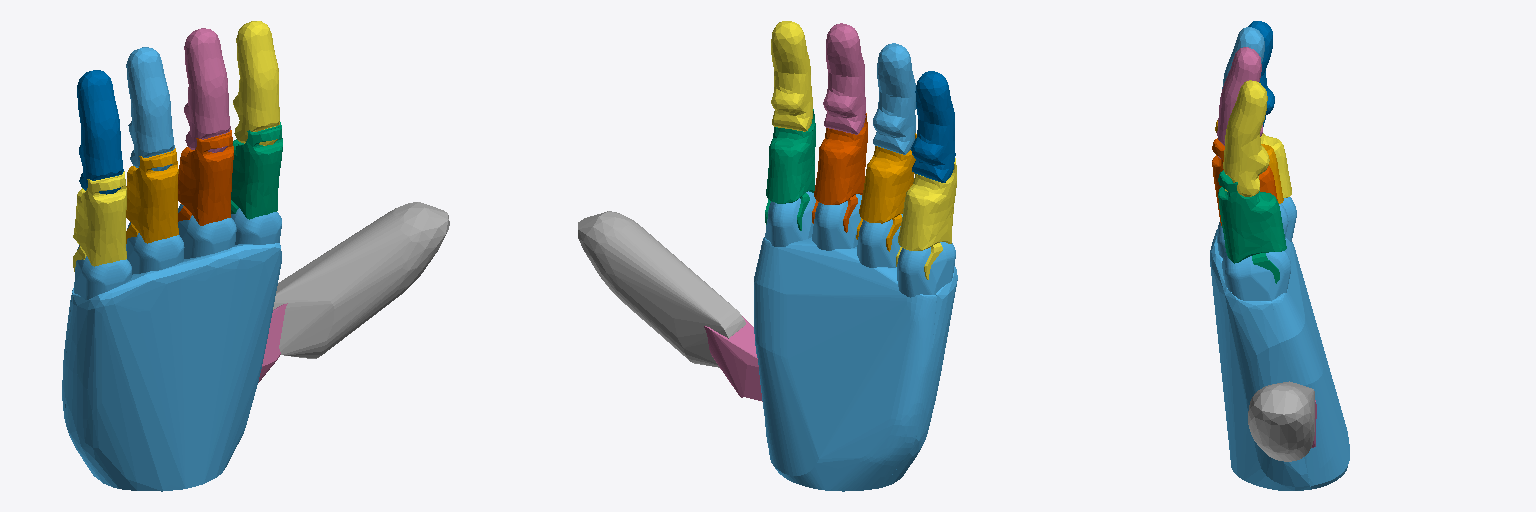
robot.urdf — ability_hand:
<!--
	NOTES:
	Units:
		Distance: m
		Angles: rad (only option)
		Mass: kg
		Inertia: kg*m^2
		
	Notes on intertia:
		-The inertias are calculated for uniform density with weights that may or may not be accurate.
		At the time of this writing only the thumb flexor weight is correct. The palm is a 'best guess' 
		approximation and the fingers are likely off by an order of magnitude
	
	Notes on finger q2:
		-The hand is a 4 bar linkage mechanism forming an 'X'. 4 bar linkages are not supported in the 
		urdf format. The motion of the second finger joint is fully defined by the motion of the first 
		finger joint. The calculation to find the index finger second joint angle given the first is provided
		in a matlab script elsewhere in this repository.
-->
<robot name="ability_hand">


	<link name="base">
		<visual name="wrist_mesh">
			<origin rpy = "0 0 0" xyz = "0 0 0"/>
			<geometry>
				<mesh filename="objects/wristmesh.obj"/>
			</geometry>
		</visual>		
		<inertial>	<!-- the mass and inertia here are NOT correct -->
			<mass value = "0.200"/>
			<inertia ixx="978.26e-6" ixy = "87.34e-6" ixz = "322.99e-6" iyy = "1244.78e-6" iyz = "244.74e-6" izz = "456.22e-6" />
			<origin xyz = "22.41911e-3 -0.15798201e-3 -0.01319866e-3" rpy = "0 0 0"/>
		</inertial>
	</link>
	<joint name="wrist2thumb" type="fixed">
		<parent link="base"/>
		<child link="thumb_base"/>
		<origin xyz = "24.0476665e-3 3.78124745e-3 32.32964923e-3" rpy = "3.14148426 0.08848813 3.14036612"/>
	</joint>

	<link name="thumb_base" >
		<inertial>
			<mass value = "0.400"/>
			<inertia ixx="978.26e-6" ixy = "87.34e-6" ixz = "322.99e-6" iyy = "1244.78e-6" iyz = "244.74e-6" izz = "456.22e-6" />
			<origin xyz = "22.41911e-3 -0.15798201e-3 -0.01319866e-3" rpy = "0 0 0"/>
		</inertial>
						
		<visual name="palm_mesh">
			<origin rpy = "0 0 0" xyz = "0 0 0"/>
			<geometry>
				<mesh filename="objects/FB_palm_ref.obj"/>
			</geometry>
		</visual>		
	</link>
	
	
	
	<link name="index_L1" >
		<inertial>
			<mass value = "0.00635888"/>
			<inertia ixx="0.29766e-6" ixy = "-0.06447133e-6" ixz = "-0.00423315e-6" iyy = "3.6947967e-6" iyz = "0.00083028e-6" izz = "3.8176336e-6" />
			<origin xyz = "22.41911e-3 -0.15798201e-3 -0.01319866e-3" rpy = "0 0 0"/>
		</inertial>
		<visual name="index_mesh_1">
			<origin xyz = "0 0 0" rpy = "0 0 0"/>
			<geometry>
				<mesh filename="objects/idx-F1.obj"/>
			</geometry>
		</visual>
	</link>
	<link name="index_L2" >
		<inertial>
			<mass value = "0.00645"/>
			<inertia ixx="0.82671e-6" ixy = "-1.08876e-6" ixz = "-0.00037e-6" iyy = "1.98028e-6" iyz = "0.00081e-6" izz = "2.64638e-6" />
			<origin rpy = "0 0 0" xyz = "13.36818e-3 -8.75392e-3 -0.02886e-3"/>
		</inertial>		
		<visual name="index_mesh_2">
			<origin rpy = "0 0 0" xyz = "0 0 0"/>
			<geometry>
				<mesh filename="objects/idx-F2.obj"/>
			</geometry>
		</visual>
	</link>	
	<joint name="index_q1" type="revolute">
		<parent link="thumb_base"/>
		<child link="index_L1"/>
		<origin xyz = "-9.49e-3 -13.04e-3 -62.95e-3" rpy = "-1.982050 1.284473 -2.090591" />
		<axis xyz="0 0 1"/>
		<limit lower = "0" upper = "2.0943951" effort = "6.0" velocity = "8.0677777442"/>		<!-- angles in rad, efforts in N-m, velocity in rad/s -->
		<dynamics damping = "0.001" friction = "0.001" />	<!-- Friction coefficient is not from quantitative measurement -->
	</joint>
	<joint name="index_q2" type="revolute">
		<parent link="index_L1"/>
		<child link="index_L2"/>
		<origin xyz = "38.472723e-3 3.257695e-3 0.000000e-3" rpy = "0 0 0.084474"/>
		<axis xyz="0 0 1"/>
		<limit lower = "0.0" upper = "2.6586" effort = "6.0" velocity = "8.0677777442"/>		<!-- angles in rad, efforts in N-m, velocity in rad/s -->
		<dynamics damping = "0.001" friction = "0.001" />	<!-- Friction coefficient is not from quantitative measurement -->
		<mimic joint = "index_q1" multiplier =  "1.05851325" offset = "0.72349796"/>
	</joint>
	<link name="index_anchor"/>
	<joint name="idx_anchor" type="fixed">
		<parent link = "index_L2"/>
		<child link = "index_anchor"/>
		<origin rpy = "0 0 0" xyz = "31.5541e-3  -10.44e-3 0.14e-3"/>
	</joint>

	

	<link name="middle_L1" >
		<inertial>
			<mass value = "0.00635888"/>
			<inertia ixx="0.29766e-6" ixy = "-0.06447133e-6" ixz = "-0.00423315e-6" iyy = "3.6947967e-6" iyz = "0.00083028e-6" izz = "3.8176336e-6" />
			<origin xyz = "22.41911e-3 -0.15798201e-3 -0.01319866e-3" rpy = "0 0 0"/>
		</inertial>
		
		<visual name="middle_mesh_1">
			<origin rpy = "0 0 0" xyz = "0 0 0"/>
			<geometry>
				<mesh filename="objects/idx-F1.obj"/>
			</geometry>
		</visual>
		
	</link>
	<link name="middle_L2" >
		<inertial>
			<mass value = "0.00645"/>
			<inertia ixx="0.82671e-6" ixy = "-1.08876e-6" ixz = "-0.00037e-6" iyy = "1.98028e-6" iyz = "0.00081e-6" izz = "2.64638e-6" />
			<origin rpy = "0 0 0" xyz = "13.36818e-3 -8.75392e-3 -0.02886e-3"/>
		</inertial>
		<visual name="middle_mesh_2">
			<origin rpy = "0 0 0" xyz = "0 0 0"/>
			<geometry>
				<mesh filename="objects/idx-F2.obj"/>
			</geometry>
		</visual>
	</link>
	<joint name="middle_q1" type="revolute">
		<parent link="thumb_base"/>
		<child link="middle_L1"/>
		<origin xyz = "9.653191e-3 -15.310271e-3 -67.853949e-3" rpy = "-1.860531 1.308458 -1.896217" />
		<limit lower = "0" upper = "2.0943951" effort = "6.0" velocity = "8.0677777442"/>		<!-- angles in rad, efforts in N-m, velocity in rad/s -->
		<dynamics damping = "0.001" friction = "0.001" />	<!-- Friction coefficient is not from quantitative measurement -->
		<axis xyz="0 0 1"/>
	</joint>
	<joint name="middle_q2" type="revolute">
		<parent link="middle_L1"/>
		<child link="middle_L2"/>
		<origin xyz = "38.472723e-3 3.257695e-3 0.000000" rpy = "0 0 0.084474"/>
		<axis xyz="0 0 1"/>
		<limit lower = "0.0" upper = "2.6586" effort = "6.0" velocity = "8.0677777442"/>		<!-- angles in rad, efforts in N-m, velocity in rad/s -->
		<dynamics damping = "0.001" friction = "0.001" />	<!-- Friction coefficient is not from quantitative measurement -->
		<mimic joint = "middle_q1" multiplier =  "1.05851325" offset = "0.72349796"/>
	</joint>
	<link name="middle_anchor"/>
	<joint name="mid_anchor" type="fixed">
		<parent link = "middle_L2"/>
		<child link = "middle_anchor"/>
		<origin rpy = "0 0 0" xyz = "31.5541e-3  -10.44e-3 0.14e-3"/>
	</joint>





	<link name="ring_L1" >
		<inertial>
			<mass value = "0.00635888"/>
			<inertia ixx="0.29766e-6" ixy = "-0.06447133e-6" ixz = "-0.00423315e-6" iyy = "3.6947967e-6" iyz = "0.00083028e-6" izz = "3.8176336e-6" />
			<origin xyz = "22.41911e-3 -0.15798201e-3 -0.01319866e-3" rpy = "0 0 0"/>
		</inertial>
		
		<visual name="ring_mesh_1">
			<origin rpy = "0 0 0" xyz = "0 0 0"/>
			<geometry>
				<mesh filename="objects/idx-F1.obj"/>
			</geometry>
		</visual>
	</link>
	<link name="ring_L2" >
		<inertial>
			<mass value = "0.00645"/>
			<inertia ixx="0.82671e-6" ixy = "-1.08876e-6" ixz = "-0.00037e-6" iyy = "1.98028e-6" iyz = "0.00081e-6" izz = "2.64638e-6" />
			<origin rpy = "0 0 0" xyz = "13.36818e-3 -8.75392e-3 -0.02886e-3"/>
		</inertial>
		<visual name="ring_mesh_2">
			<origin rpy = "0 0 0" xyz = "0 0 0"/>
			<geometry>
				<mesh filename="objects/idx-F2.obj"/>
			</geometry>
		</visual>		
	</link>
	<joint name="ring_q1" type="revolute">
		<parent link="thumb_base"/>
		<child link="ring_L1"/>
		<origin xyz = "29.954260e-3 -14.212492e-3 -67.286105e-3" rpy = "-1.716598 1.321452 -1.675862" />
		<limit lower = "0" upper = "2.0943951" effort = "6.0" velocity = "8.0677777442"/>		<!-- angles in rad, efforts in N-m, velocity in rad/s -->
		<dynamics damping = "0.001" friction = "0.001" />	<!-- Friction coefficient is not from quantitative measurement -->
		<axis xyz="0 0 1"/>
	</joint>
	<joint name="ring_q2" type="revolute">
		<parent link="ring_L1"/>
		<child link="ring_L2"/>
		<origin xyz = "38.472723e-3 3.257695e-3 0.000000" rpy = "0 0 0.084474"/>
		<axis xyz="0 0 1"/>
		<limit lower = "0.0" upper = "2.6586" effort = "6.0" velocity = "8.0677777442"/>		<!-- angles in rad, efforts in N-m, velocity in rad/s -->
		<dynamics damping = "0.001" friction = "0.001" />	<!-- Friction coefficient is not from quantitative measurement -->
		<mimic joint = "ring_q1" multiplier =  "1.05851325" offset = "0.72349796"/>
	</joint>
	<link name="ring_anchor"/>
	<joint name="rng_anchor" type="fixed">
		<parent link = "ring_L2"/>
		<child link = "ring_anchor"/>
		<origin rpy = "0 0 0" xyz = "31.5541e-3  -10.44e-3 0.14e-3"/>
	</joint>



	<link name="pinky_L1" >
		<inertial>
			<mass value = "0.00635888"/>
			<inertia ixx="0.29766e-6" ixy = "-0.06447133e-6" ixz = "-0.00423315e-6" iyy = "3.6947967e-6" iyz = "0.00083028e-6" izz = "3.8176336e-6" />
			<origin xyz = "22.41911e-3 -0.15798201e-3 -0.01319866e-3" rpy = "0 0 0"/>
		</inertial>
		
		<visual name="pinky_mesh_1">
			<origin rpy = "0 0 0" xyz = "0 0 0"/>
			<geometry>
				<mesh filename="objects/idx-F1.obj"/>
			</geometry>
		</visual>
	</link>
	<link name="pinky_L2" >
		<inertial>
			<mass value = "0.00645"/>
			<inertia ixx="0.82671e-6" ixy = "-1.08876e-6" ixz = "-0.00037e-6" iyy = "1.98028e-6" iyz = "0.00081e-6" izz = "2.64638e-6" />
			<origin rpy = "0 0 0" xyz = "13.36818e-3 -8.75392e-3 -0.02886e-3"/>
		</inertial>
		<visual name="pinky_mesh_2">
			<origin rpy = "0 0 0" xyz = "0 0 0"/>
			<geometry>
				<mesh filename="objects/idx-F2.obj"/>
			</geometry>
		</visual>		
	</link>
	<joint name="pinky_q1" type="revolute">
		<parent link="thumb_base"/>
		<child link="pinky_L1"/>
		<origin xyz = "49.521293e-3 -11.004583e-3 -63.029065e-3" rpy = "-1.765110 1.322220 -1.658383" />
		<limit lower = "0" upper = "2.0943951" effort = "6.0" velocity = "8.0677777442"/>		<!-- angles in rad, efforts in N-m, velocity in rad/s -->
		<dynamics damping = "0.001" friction = "0.001" />	<!-- Friction coefficient is not from quantitative measurement -->
		<axis xyz="0 0 1"/>
	</joint>
	<joint name="pinky_q2" type="revolute">
		<parent link="pinky_L1"/>
		<child link="pinky_L2"/>
		<origin xyz = "38.472723e-3 3.257695e-3 0.000000" rpy = "0 0 0.084474"/>
		<limit lower = "0.0" upper = "2.6586" effort = "6.0" velocity = "8.0677777442"/>		<!-- angles in rad, efforts in N-m, velocity in rad/s -->
		<dynamics damping = "0.001" friction = "0.001" />	<!-- Friction coefficient is not from quantitative measurement -->
		<axis xyz="0 0 1"/>
		<mimic joint = "pinky_q1" multiplier =  "1.05851325" offset = "0.72349796"/>
	</joint>
	<link name="pinky_anchor"/>
	<joint name="pnky_anchor" type="fixed">
		<parent link = "pinky_L2"/>
		<child link = "pinky_anchor"/>
		<origin rpy = "0 0 0" xyz = "31.5541e-3  -10.44e-3 0.14e-3"/>
	</joint>



	<link name="thumb_L1" >
		<inertial>
			<mass value = "0.00268342"/>
			<inertia ixx="0.16931e-6" ixy = "-0.076214e-6" ixz = "-0.16959148e-6" iyy = "0.77769934e-6" iyz = "0.0156622e-6" izz = "0.7249122e-6" />
			<origin rpy = "0 0 0" xyz = "14.606e-3 -1.890854e-3 -3.1155356e-3"/>
		</inertial>
		
		<visual name="thumb_mesh_1">
			<origin rpy = "0 0 0" xyz = "0 0 0"/>
			<geometry>
				<mesh filename="objects/thumb-F1.obj"/>
			</geometry>
		</visual>
		
	</link>
	<link name="thumb_L2" >
		<inertial>
			<mass value = "0.0055"/>
			<inertia ixx="4.4789082e-6" ixy = "4.4789082e-6" ixz = "-0.62144934e-6" iyy = "15.600996e-6" iyz = "-0.07466143e-6" izz = "17.908554e-6" />
			<origin rpy = "0 0 0" xyz = "30.020522e-3 5.59476e-3 -4.1504356e-3"/>
		</inertial>
		
		<visual name="thumb_mesh_2">
			<origin rpy = "0 0 0" xyz = "0 0 0"/>
			<geometry>
				<mesh filename="objects/thumb-F2-left.obj"/>
			</geometry>
		</visual>
		
	</link>
	<joint name="thumb_q1" type="revolute">
		<parent link="thumb_base"/>
		<child link="thumb_L1"/>
		<origin xyz = "0 0 0" rpy = "0 0 3.330437"/>
		<axis xyz="0 0 1"/>
		<limit lower = "-2.0943951" upper = "0" effort = "1.2" velocity = "40.338888721"/>		<!-- angles in rad, efforts in N-m, velocity in rad/s -->
		<dynamics damping = "0.001" friction = "0.001" />	<!-- Friction coefficient is not from quantitative measurement -->
	</joint>
	<joint name="thumb_q2" type="revolute">
		<parent link="thumb_L1"/>
		<child link="thumb_L2"/>
		<origin xyz = "27.8283501e-3 0 -14.7507000e-3" rpy = "4.450589592585541 0 0" />
		<axis xyz="0 0 1"/>
		<limit lower = "0" upper = "2.0943951" effort = "6.0" velocity = "8.0677777442"/>		<!-- angles in rad, efforts in N-m, velocity in rad/s -->
		<dynamics damping = "0.001" friction = "0.001" />	<!-- Friction coefficient is not from quantitative measurement -->		
	</joint>
	<link name="thumb_anchor"/>
	<joint name="thmb_anchor" type="fixed">
		<parent link = "thumb_L2"/>
		<child link = "thumb_anchor"/>
		<origin rpy = "0 0 0" xyz = "52.0012259e-3  28.0086971e-3 -.884835778e-3"/>
	</joint>




	<sensor name="fsr1">

		<parent link = "index_L2"/>

		<origin xyz = "[ 0.03095037 -0.01554447  0.        ]" rpy = "[-1.57079633  1.17944437 -1.57079633]"/>

	</sensor>


	<sensor name="fsr2">

		<parent link = "index_L2"/>

		<origin xyz = "[ 0.02510623 -0.01157959  0.        ]" rpy = "[ 1.57079633 -0.25241514  1.57079633]"/>

	</sensor>


	<sensor name="fsr3">

		<parent link = "index_L2"/>

		<origin xyz = "[ 0.02702797 -0.01495401  0.004     ]" rpy = "[-1.57079633  0.50535705 -1.57079633]"/>

	</sensor>


	<sensor name="fsr4">

		<parent link = "index_L2"/>

		<origin xyz = "[ 0.01284956 -0.00967365  0.004     ]" rpy = "[-1.57079633  0.64531527 -1.57079633]"/>

	</sensor>


	<sensor name="fsr5">

		<parent link = "index_L2"/>

		<origin xyz = "[ 0.02702797 -0.01495401 -0.004     ]" rpy = "[-1.57079633  0.50535705 -1.57079633]"/>

	</sensor>


	<sensor name="fsr6">

		<parent link = "index_L2"/>

		<origin xyz = "[ 0.02702797 -0.01495401 -0.004     ]" rpy = "[-1.57079633  0.50535705 -1.57079633]"/>

	</sensor>


	<sensor name="fsr7">

		<parent link = "middle_L2"/>

		<origin xyz = "[ 0.03095037 -0.01554447  0.        ]" rpy = "[-1.57079633  1.17944437 -1.57079633]"/>

	</sensor>


	<sensor name="fsr8">

		<parent link = "middle_L2"/>

		<origin xyz = "[ 0.02510623 -0.01157959  0.        ]" rpy = "[ 1.57079633 -0.25241514  1.57079633]"/>

	</sensor>


	<sensor name="fsr9">

		<parent link = "middle_L2"/>

		<origin xyz = "[ 0.02702797 -0.01495401  0.004     ]" rpy = "[-1.57079633  0.50535705 -1.57079633]"/>

	</sensor>


	<sensor name="fsr10">

		<parent link = "middle_L2"/>

		<origin xyz = "[ 0.01284956 -0.00967365  0.004     ]" rpy = "[-1.57079633  0.64531527 -1.57079633]"/>

	</sensor>


	<sensor name="fsr11">

		<parent link = "middle_L2"/>

		<origin xyz = "[ 0.02702797 -0.01495401 -0.004     ]" rpy = "[-1.57079633  0.50535705 -1.57079633]"/>

	</sensor>


	<sensor name="fsr12">

		<parent link = "middle_L2"/>

		<origin xyz = "[ 0.02702797 -0.01495401 -0.004     ]" rpy = "[-1.57079633  0.50535705 -1.57079633]"/>

	</sensor>


	<sensor name="fsr13">

		<parent link = "ring_L2"/>

		<origin xyz = "[ 0.03095037 -0.01554447  0.        ]" rpy = "[-1.57079633  1.17944437 -1.57079633]"/>

	</sensor>


	<sensor name="fsr14">

		<parent link = "ring_L2"/>

		<origin xyz = "[ 0.02510623 -0.01157959  0.        ]" rpy = "[ 1.57079633 -0.25241514  1.57079633]"/>

	</sensor>


	<sensor name="fsr15">

		<parent link = "ring_L2"/>

		<origin xyz = "[ 0.02702797 -0.01495401  0.004     ]" rpy = "[-1.57079633  0.50535705 -1.57079633]"/>

	</sensor>


	<sensor name="fsr16">

		<parent link = "ring_L2"/>

		<origin xyz = "[ 0.01284956 -0.00967365  0.004     ]" rpy = "[-1.57079633  0.64531527 -1.57079633]"/>

	</sensor>


	<sensor name="fsr17">

		<parent link = "ring_L2"/>

		<origin xyz = "[ 0.02702797 -0.01495401 -0.004     ]" rpy = "[-1.57079633  0.50535705 -1.57079633]"/>

	</sensor>


	<sensor name="fsr18">

		<parent link = "ring_L2"/>

		<origin xyz = "[ 0.02702797 -0.01495401 -0.004     ]" rpy = "[-1.57079633  0.50535705 -1.57079633]"/>

	</sensor>


	<sensor name="fsr19">

		<parent link = "pinky_L2"/>

		<origin xyz = "[ 0.03095037 -0.01554447  0.        ]" rpy = "[-1.57079633  1.17944437 -1.57079633]"/>

	</sensor>


	<sensor name="fsr20">

		<parent link = "pinky_L2"/>

		<origin xyz = "[ 0.02510623 -0.01157959  0.        ]" rpy = "[ 1.57079633 -0.25241514  1.57079633]"/>

	</sensor>


	<sensor name="fsr21">

		<parent link = "pinky_L2"/>

		<origin xyz = "[ 0.02702797 -0.01495401  0.004     ]" rpy = "[-1.57079633  0.50535705 -1.57079633]"/>

	</sensor>


	<sensor name="fsr22">

		<parent link = "pinky_L2"/>

		<origin xyz = "[ 0.01284956 -0.00967365  0.004     ]" rpy = "[-1.57079633  0.64531527 -1.57079633]"/>

	</sensor>


	<sensor name="fsr23">

		<parent link = "pinky_L2"/>

		<origin xyz = "[ 0.02702797 -0.01495401 -0.004     ]" rpy = "[-1.57079633  0.50535705 -1.57079633]"/>

	</sensor>


	<sensor name="fsr24">

		<parent link = "pinky_L2"/>

		<origin xyz = "[ 0.02702797 -0.01495401 -0.004     ]" rpy = "[-1.57079633  0.50535705 -1.57079633]"/>

	</sensor>


	<sensor name="fsr25">

		<parent link = "thumb_L2"/>

		<origin xyz = "[ 0.055422  0.023513 -0.005055]" rpy = "[-1.57079633 -0.40123853 -1.57079633]"/>

	</sensor>


	<sensor name="fsr26">
		<parent link = "thumb_L2"/>
		<origin xyz = "[ 0.047909  0.02312  -0.005728]" rpy = "[-1.57079633 -0.44961601 -1.57079633]"/>
	</sensor>


	<sensor name="fsr27">

		<parent link = "thumb_L2"/>

		<origin xyz = "[0.048227 0.022352 0.000805]" rpy = "[-1.57079633 -0.43229053 -1.57079633]"/>

	</sensor>


	<sensor name="fsr28">

		<parent link = "thumb_L2"/>

		<origin xyz = "[0.036868 0.017111 0.001369]" rpy = "[0. 0. 0.]"/>

	</sensor>


	<sensor name="fsr29">

		<parent link = "thumb_L2"/>

		<origin xyz = "[ 0.049435  0.019437 -0.01097 ]" rpy = "[-1.57079633 -0.44946695 -1.57079633]"/>

	</sensor>


	<sensor name="fsr30">

		<parent link = "thumb_L2"/>

		<origin xyz = "[ 0.038158  0.013997 -0.011211]" rpy = "[ 0. -0.  0.]"/>

	</sensor>


</robot>

--- Render facts (derived) ---
The picture shows the robot from 3 angles, left to right: view 1: azimuth 30°, elevation 25°; view 2: azimuth 150°, elevation 25°; view 3: azimuth 270°, elevation 25°; orthographic projection.
Model ability_hand with 17 links and 16 joints (10 revolute, 6 fixed), rooted at base, posed every joint at zero.
Links seen in each view (by area): view 1: thumb_base, thumb_L2, index_L2, middle_L2, ring_L2, pinky_L2, middle_L1, ring_L1, pinky_L1, index_L1, thumb_L1; view 2: thumb_base, thumb_L2, pinky_L2, index_L2, middle_L2, ring_L2, pinky_L1, middle_L1, index_L1, ring_L1, thumb_L1; view 3: thumb_base, thumb_L2, index_L1, index_L2, middle_L2, middle_L1, pinky_L2, ring_L2, pinky_L1.
Boxes of the visible links, x1,y1,x2,y2 form: thumb_base: [62, 204, 281, 491]; thumb_L2: [273, 202, 449, 358]; index_L2: [233, 21, 279, 145]; middle_L2: [184, 28, 230, 152]; ring_L2: [126, 47, 174, 170]; pinky_L2: [77, 70, 123, 194]; middle_L1: [178, 130, 233, 225]; ring_L1: [126, 148, 178, 243]; pinky_L1: [73, 171, 126, 271]; index_L1: [231, 122, 282, 219]; thumb_L1: [258, 303, 287, 382]; thumb_base: [754, 191, 957, 491]; thumb_L2: [578, 211, 745, 367]; pinky_L2: [911, 71, 955, 182]; index_L2: [771, 21, 812, 131]; middle_L2: [823, 23, 865, 134]; ring_L2: [873, 43, 915, 154]; pinky_L1: [896, 158, 956, 279]; middle_L1: [812, 113, 867, 232]; index_L1: [765, 109, 815, 230]; ring_L1: [856, 133, 916, 251]; thumb_L1: [704, 316, 762, 401]; thumb_base: [1210, 197, 1349, 490]; thumb_L2: [1248, 381, 1314, 461]; index_L1: [1218, 170, 1286, 283]; index_L2: [1223, 80, 1269, 196]; middle_L2: [1217, 47, 1262, 158]; middle_L1: [1212, 138, 1277, 225]; pinky_L2: [1248, 21, 1274, 126]; ring_L2: [1222, 27, 1264, 88]; pinky_L1: [1260, 133, 1291, 198].
Bounding box of the posed robot: 0.1565 × 0.053 × 0.1778 m (x, y, z).
12 mesh visuals loaded from 6 distinct referenced files (6 OBJ).